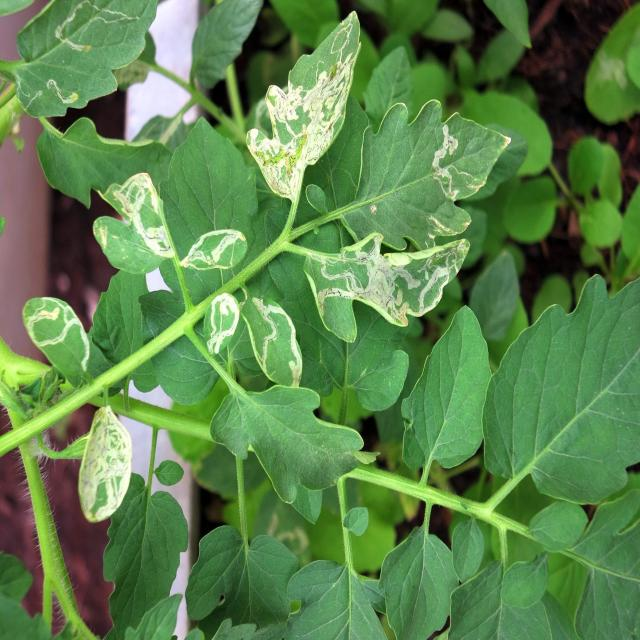Healthy: (483, 276, 640, 510), (210, 381, 364, 507), (402, 303, 492, 474), (103, 473, 189, 640), (381, 520, 461, 640)
